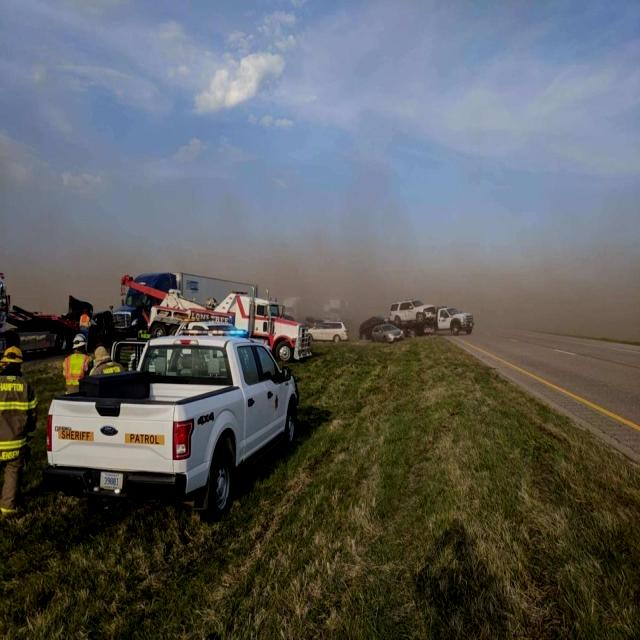Car: (388, 299, 438, 326), (301, 321, 350, 343), (372, 322, 406, 344)
Truck: (41, 323, 303, 522), (116, 273, 314, 365), (108, 271, 258, 354), (0, 273, 112, 365), (386, 306, 476, 339)
